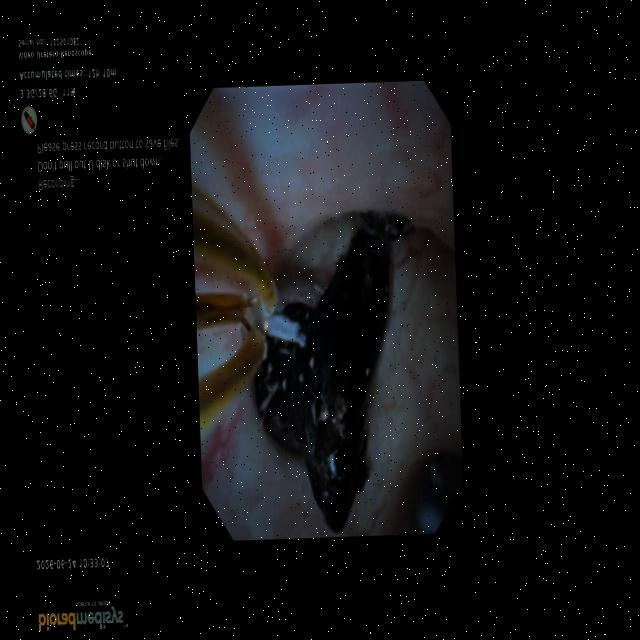stone-new: (255, 214, 410, 532)
